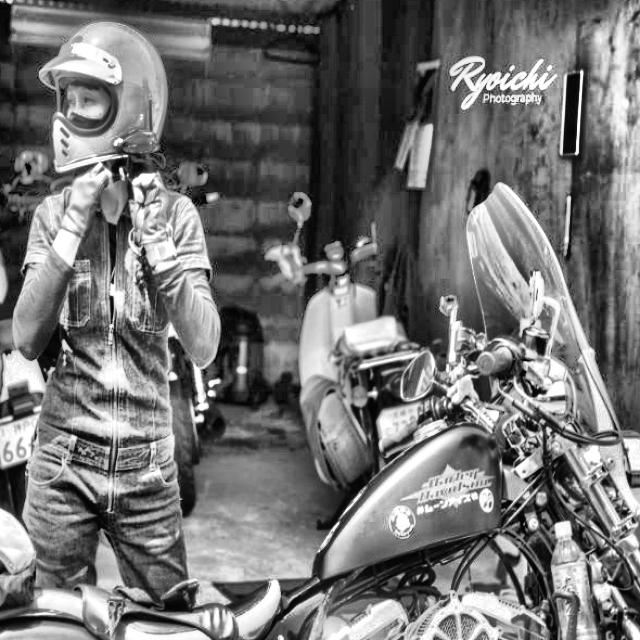Helmet: (34, 15, 172, 177)
